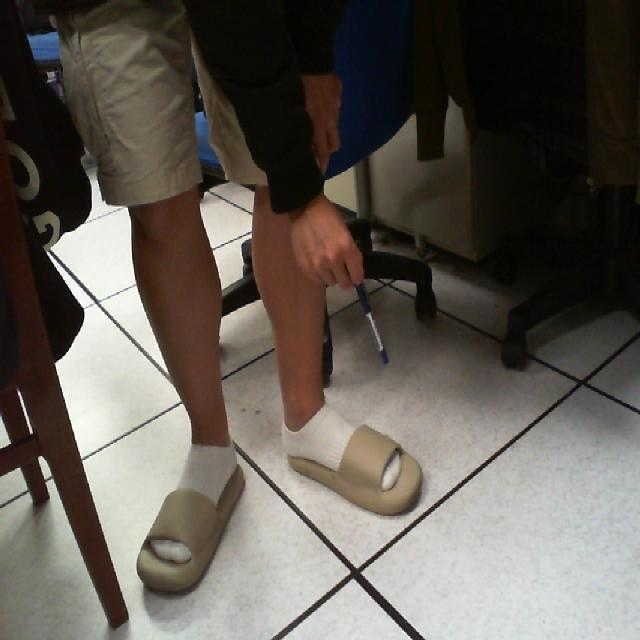Pen: (340, 262, 408, 383)
